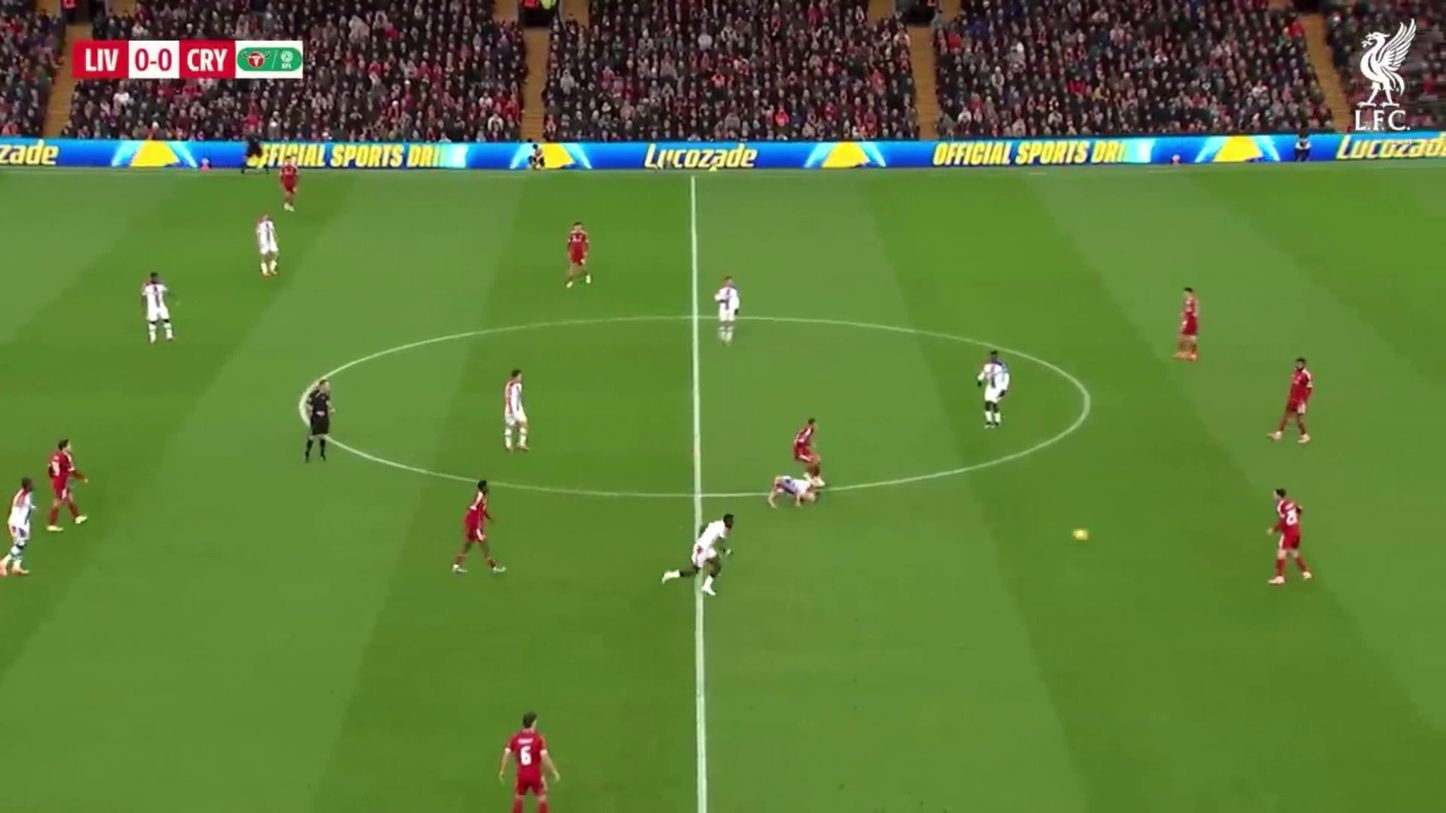player: (499, 712, 560, 813), (450, 479, 509, 576), (775, 417, 826, 507), (1269, 488, 1314, 586), (45, 436, 88, 532), (2, 474, 40, 578), (1270, 357, 1315, 443), (691, 515, 735, 591), (791, 416, 827, 503), (301, 378, 333, 465), (0, 488, 31, 577), (976, 352, 1012, 427), (142, 271, 176, 344), (503, 368, 529, 452), (768, 472, 823, 509), (1174, 288, 1201, 362), (792, 417, 823, 480), (564, 223, 592, 290), (715, 277, 741, 345), (256, 215, 280, 279), (279, 160, 300, 215)
